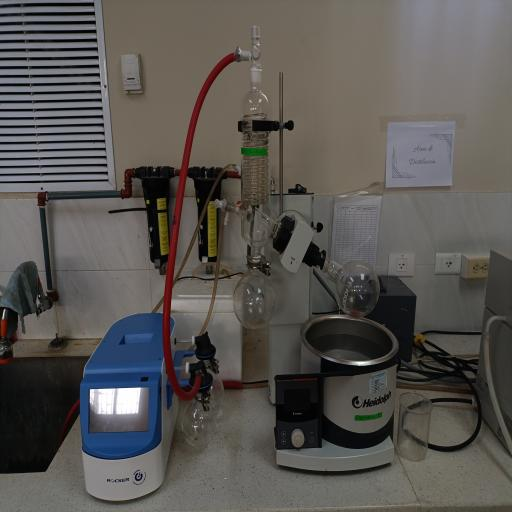Sistema_Rotaevaporacion: (63, 17, 421, 512)
